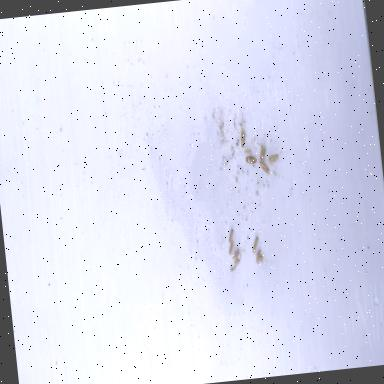pbw: (259, 144, 268, 160), (252, 236, 261, 252), (240, 127, 247, 147), (260, 160, 270, 174), (246, 154, 257, 164), (228, 228, 234, 241)
